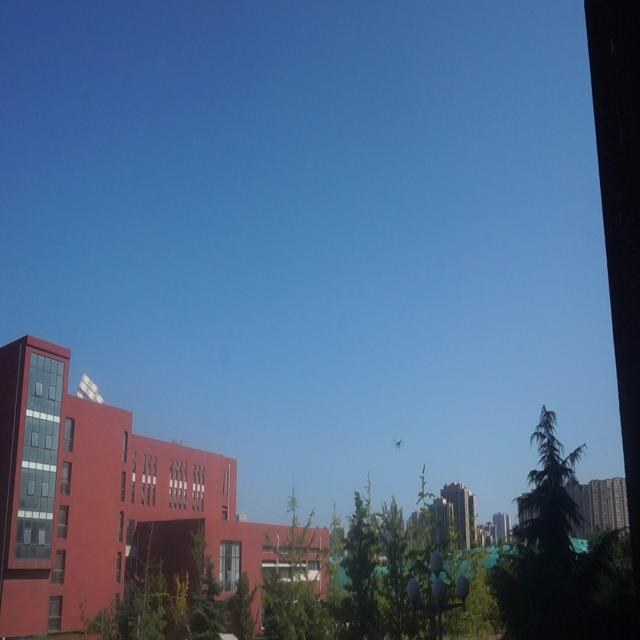drone: (392, 434, 407, 452)
